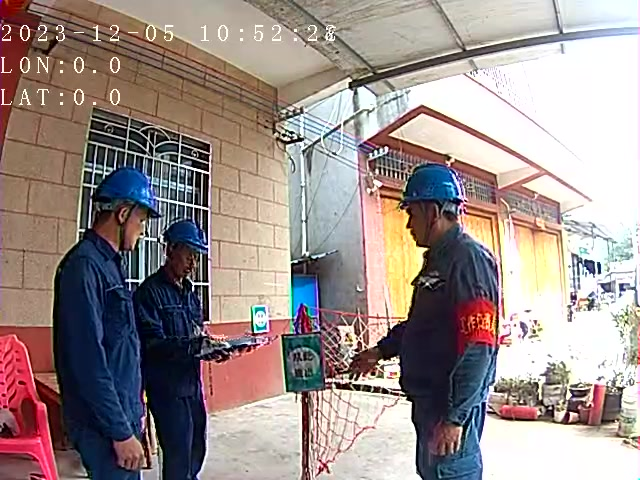badge: (454, 304, 501, 349)
downsuit: (142, 391, 217, 480), (410, 401, 489, 480)
halt: (89, 166, 156, 247), (400, 165, 462, 245), (160, 219, 208, 278)
hand: (423, 417, 465, 456), (348, 344, 380, 385), (113, 437, 145, 470)
inear: (417, 198, 444, 248), (110, 203, 136, 252)
intosign: (282, 332, 326, 393)
person: (356, 163, 507, 480), (53, 162, 158, 480), (134, 216, 237, 480)
upsuit: (380, 233, 501, 402), (56, 243, 142, 437), (131, 266, 214, 397)
worksign: (250, 304, 270, 334)
